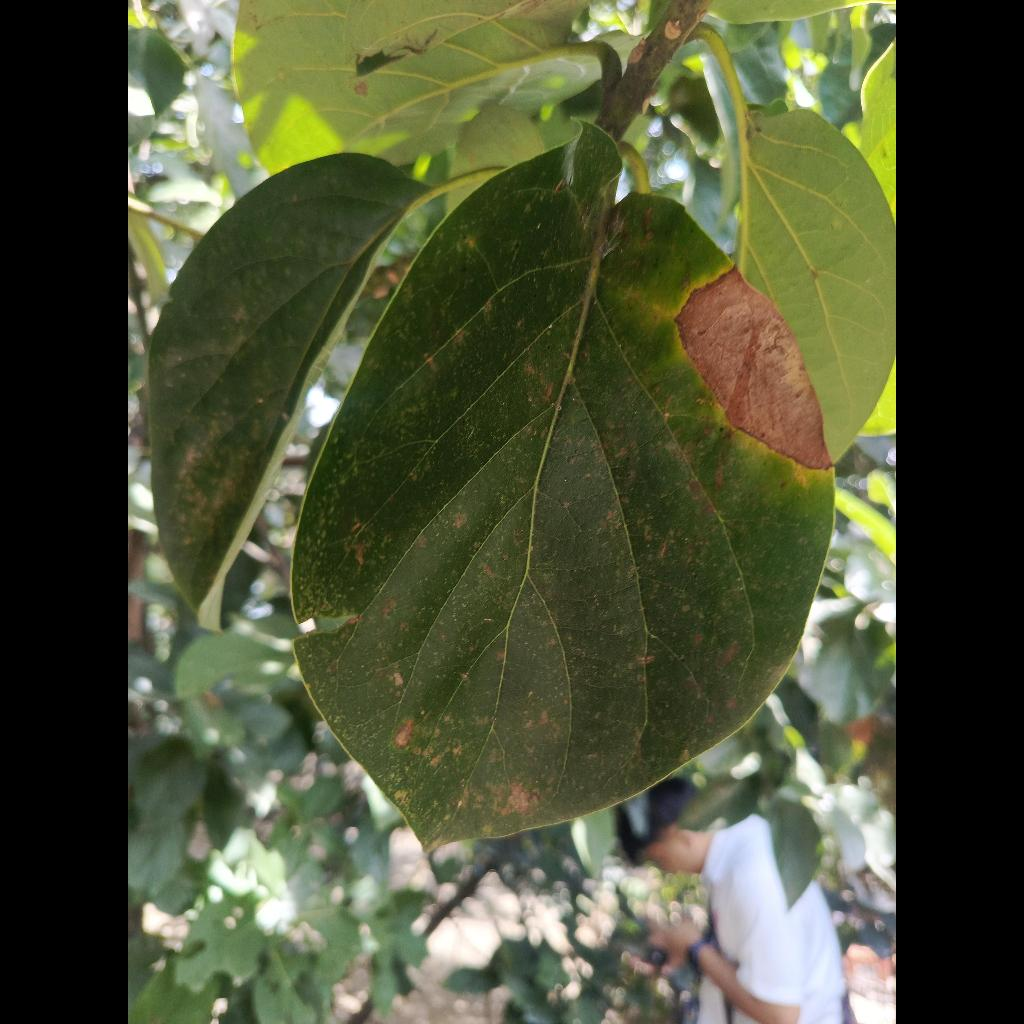antracnosis_hoja: (294, 124, 833, 847)
